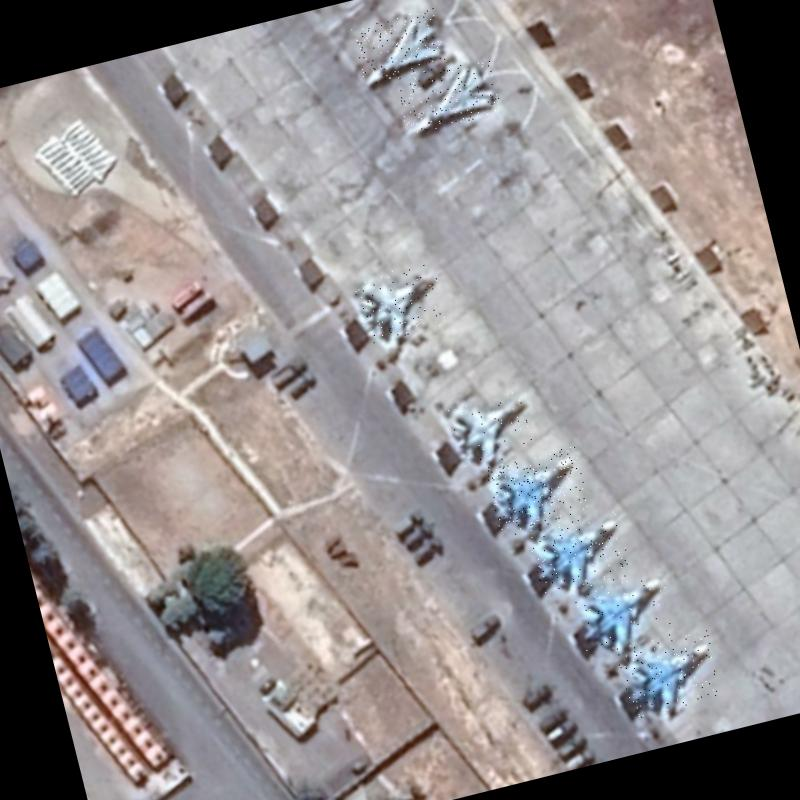A1: (352, 260, 449, 344), (446, 388, 540, 470)
A19: (484, 446, 592, 538), (616, 630, 724, 720), (526, 508, 632, 599), (572, 570, 678, 660)
A20: (394, 57, 503, 136), (351, 7, 448, 87)
